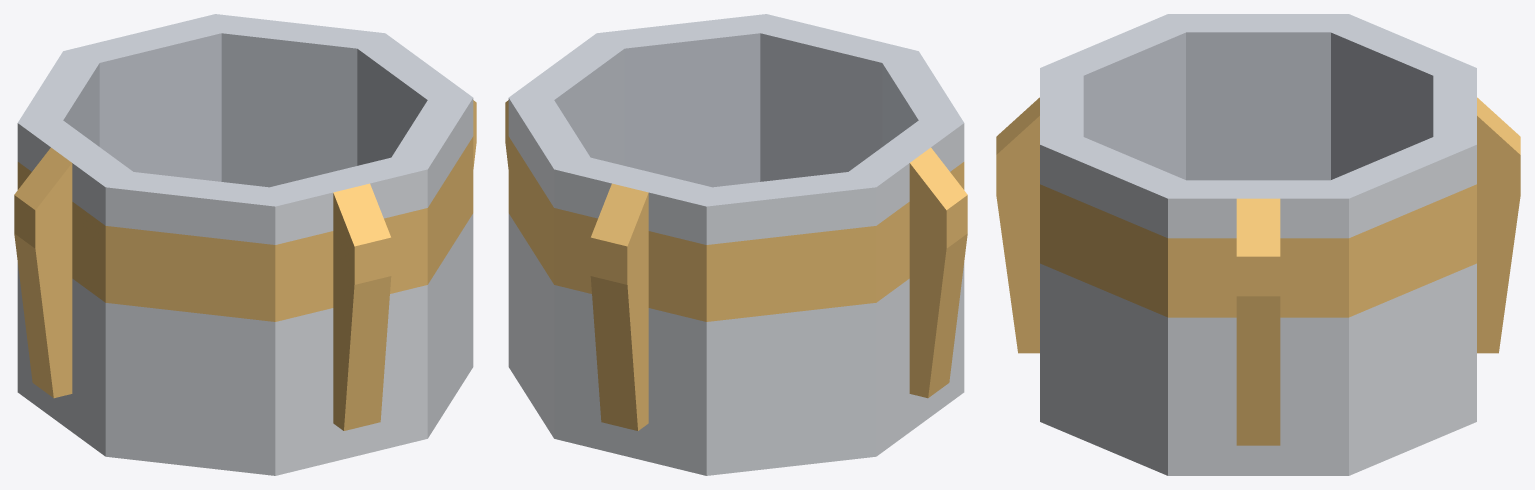
Rendered from rocket_finsB.gltf.
3 views of the same model, side by side, from view 1: azimuth 30°, elevation 25°; view 2: azimuth 150°, elevation 25°; view 3: azimuth 270°, elevation 25° (orthographic). The views are drawn at different scales.
Visible parts, largest first — view 1: rocket_finsB; view 2: rocket_finsB; view 3: rocket_finsB.
Boxes of the visible parts, bbox=[...] form: rocket_finsB: bbox=[14, 14, 476, 475]; rocket_finsB: bbox=[505, 14, 967, 475]; rocket_finsB: bbox=[996, 14, 1520, 475].
Size of the model in its own units: 1.2 by 0.7 by 1.2.
